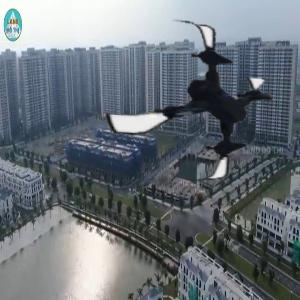drone: (105, 17, 278, 190)
